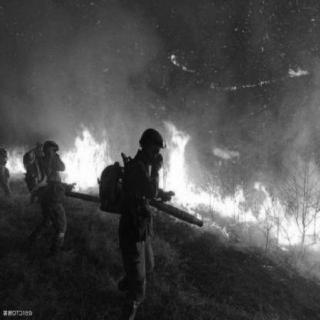Fire: (165, 102, 319, 252), (5, 144, 31, 180)
Smoke: (12, 4, 156, 134)
